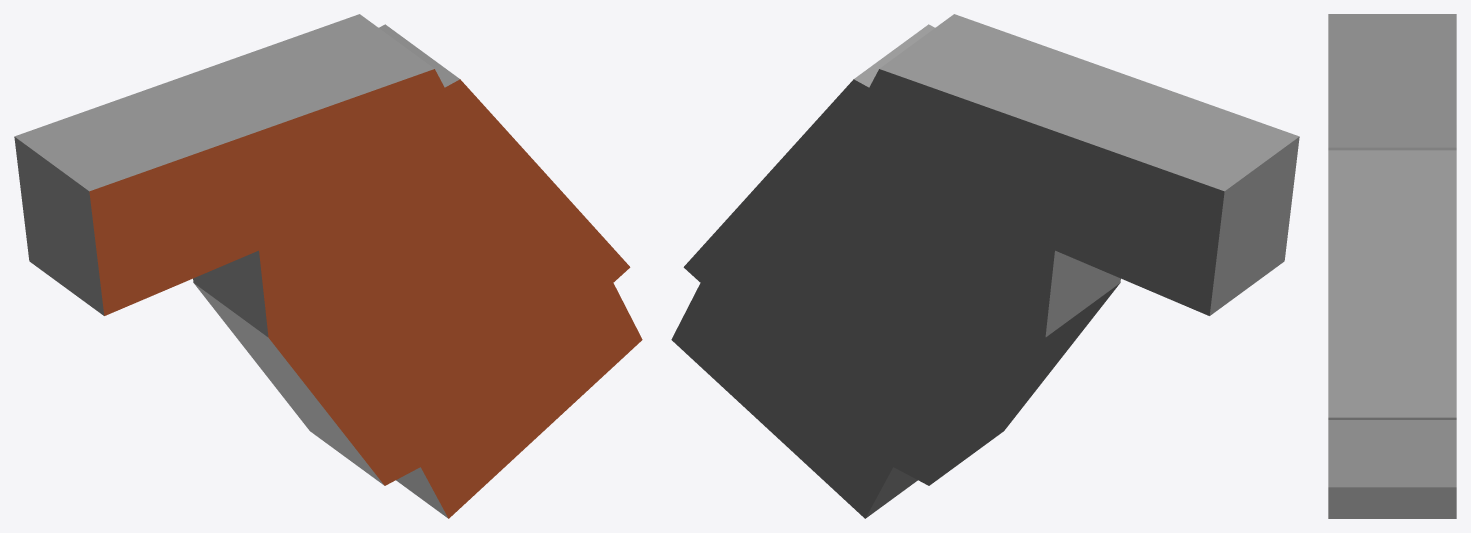
Rendered from construction_2429_assumed_A_Casa_h6m.obj.
3 renders of one model, left to right at view 1: azimuth 30°, elevation 25°; view 2: azimuth 150°, elevation 25°; view 3: azimuth 270°, elevation 25°, orthographic. The views are drawn at different scales.
Parts seen in each view (by area): view 1: construction_2429_assumed_A_Casa; view 2: construction_2429_assumed_A_Casa; view 3: construction_2429_assumed_A_Casa.
Boxes of the visible parts, <box> form: construction_2429_assumed_A_Casa: <box>14,14,642,518</box>; construction_2429_assumed_A_Casa: <box>671,14,1299,518</box>; construction_2429_assumed_A_Casa: <box>1328,14,1456,518</box>.
Size of the model in its own units: 25.54 by 20 by 6.
